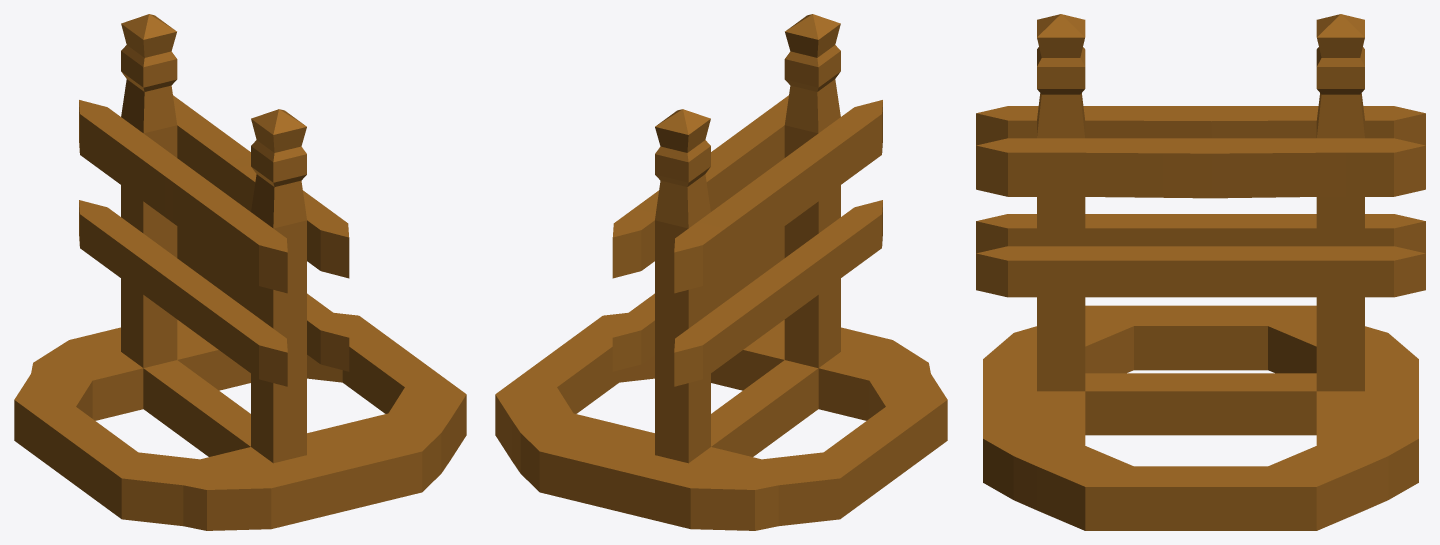
The model's file is Small Weapon Rack.fbx.
3 renders of one model, left to right at view 1: azimuth 30°, elevation 25°; view 2: azimuth 150°, elevation 25°; view 3: azimuth 270°, elevation 25°, orthographic. The views are drawn at different scales.
Visible parts, largest first — view 1: Cube; view 2: Cube; view 3: Cube.
Boxes of the visible parts, bbox=[...] form: Cube: bbox=[14, 14, 466, 530]; Cube: bbox=[495, 14, 947, 530]; Cube: bbox=[976, 14, 1425, 530].
Size of the model in its own units: 123 by 130 by 129.
